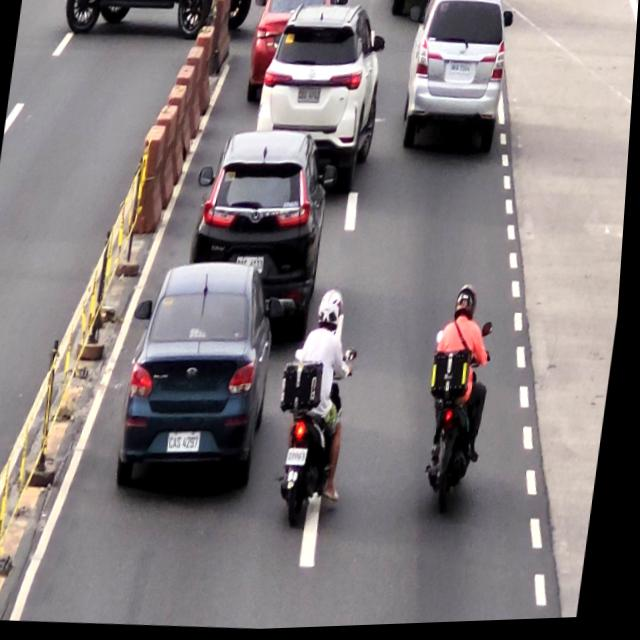Car: (121, 259, 283, 496), (185, 130, 337, 334), (253, 7, 390, 183), (404, 0, 513, 158)
License-Plate: (171, 431, 207, 457), (296, 83, 324, 109), (291, 449, 315, 471), (448, 62, 473, 81)
Motorcycle: (283, 288, 364, 537), (420, 286, 503, 504)
